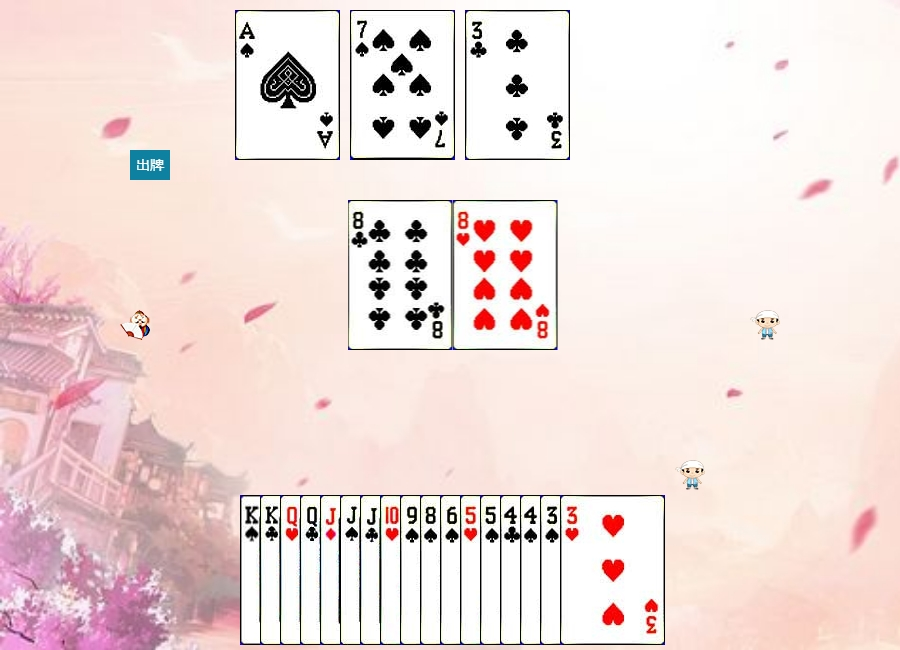10~3: (380, 495, 485, 645)
11~1: (320, 495, 425, 645)
11~2: (360, 495, 465, 645)
11~4: (340, 495, 445, 645)
12~2: (300, 495, 405, 645)
12~3: (280, 495, 385, 645)
13~2: (260, 495, 365, 645)
13~4: (240, 495, 345, 645)
14~4: (235, 10, 340, 160)
3~2: (465, 10, 570, 160)
3~3: (560, 495, 665, 645)
3~4: (540, 495, 645, 645)
4~2: (500, 495, 605, 645)
4~4: (520, 495, 625, 645)
5~3: (460, 495, 565, 645)
5~4: (480, 495, 585, 645)
6~4: (440, 495, 545, 645)
7~4: (350, 10, 455, 160)
8~2: (348, 200, 453, 350)
8~3: (453, 200, 558, 350)
8~4: (420, 495, 525, 645)
9~4: (400, 495, 505, 645)
